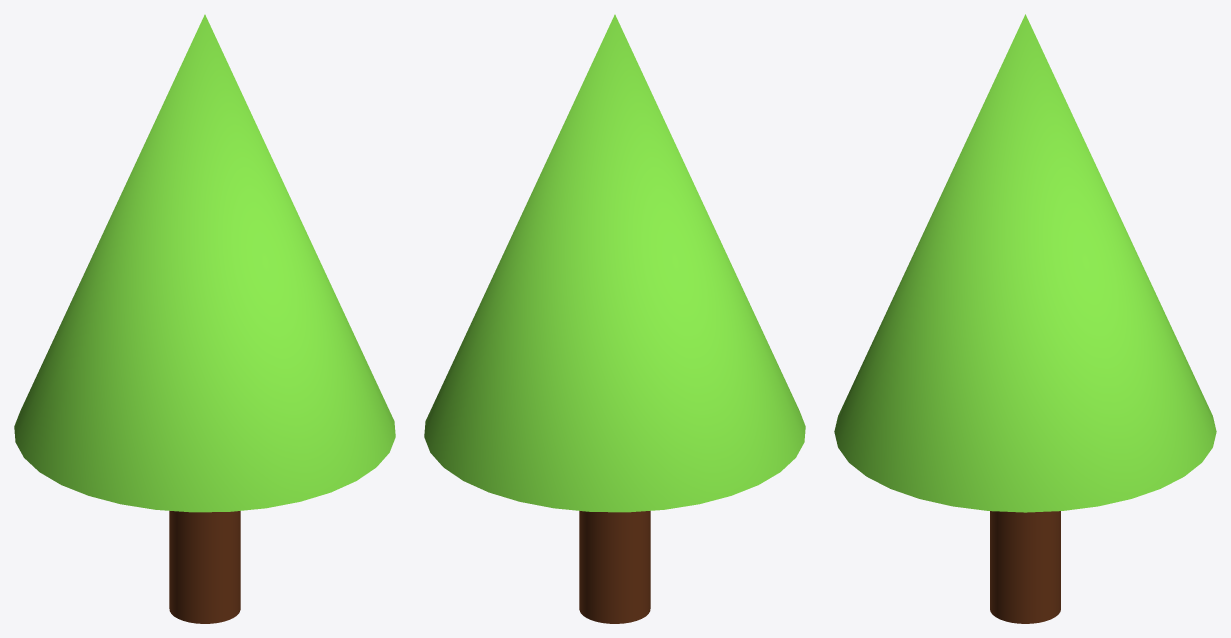
The model's file is smrek_2.fbx.
3 views of the same model, side by side, from view 1: azimuth 30°, elevation 25°; view 2: azimuth 150°, elevation 25°; view 3: azimuth 270°, elevation 25° (orthographic).
Parts seen in each view (by area): view 1: Cone.002; view 2: Cone.002; view 3: Cone.002.
Boxes of the visible parts, x1,y1,x2,y2 form: Cone.002: [14, 14, 395, 623]; Cone.002: [424, 14, 805, 623]; Cone.002: [834, 14, 1216, 623].
Bounding box in the file's own units: 508 × 508 × 872.
